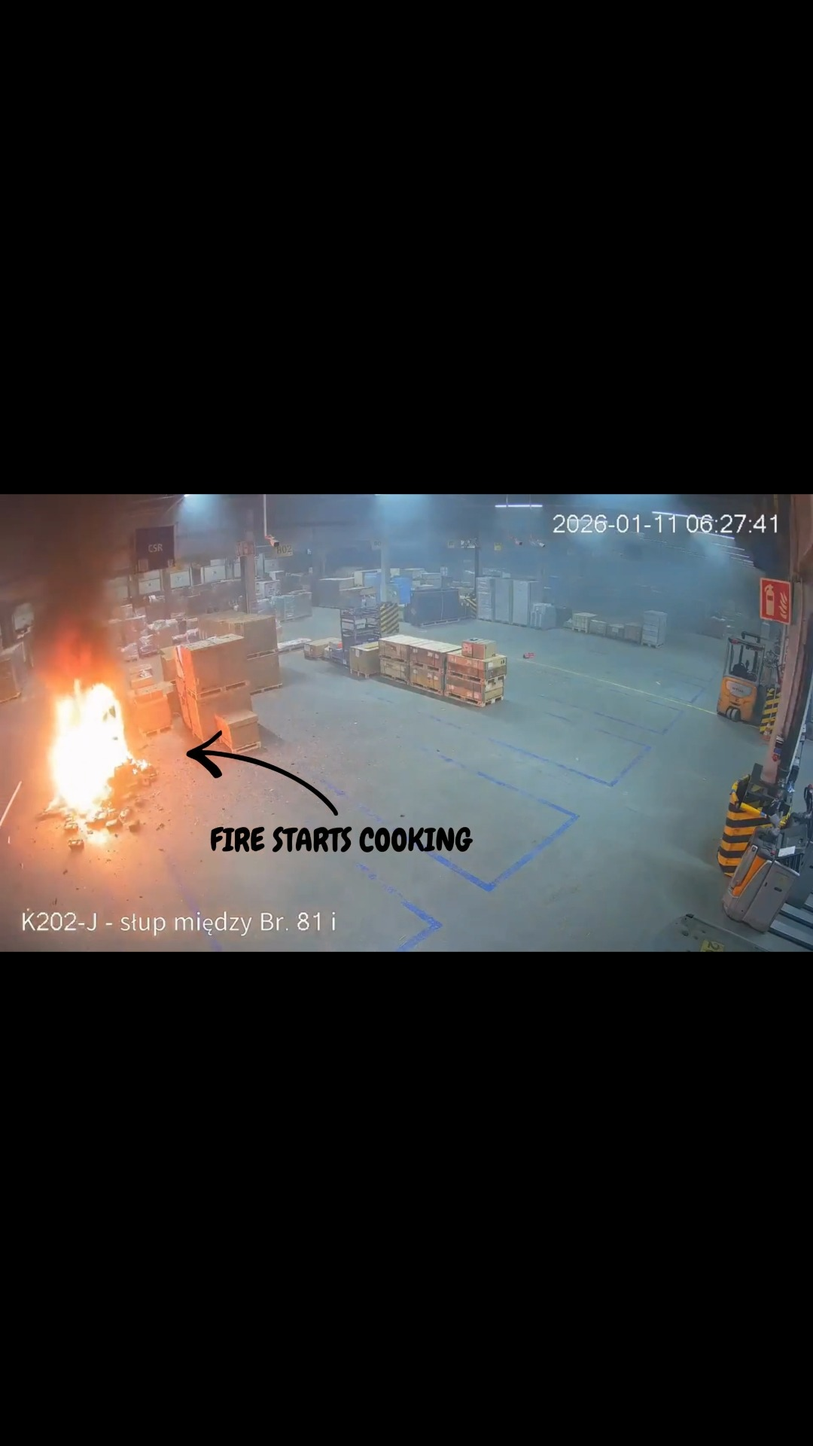fire: (23, 656, 161, 863)
